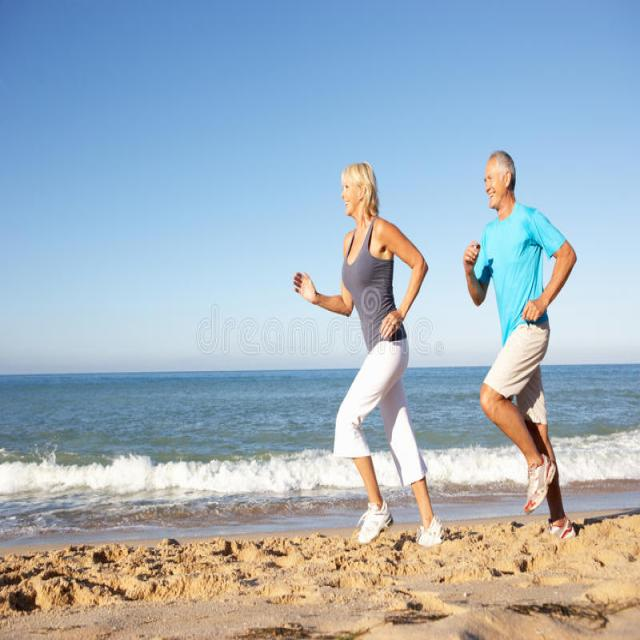running: (290, 159, 449, 553), (449, 147, 579, 548)
